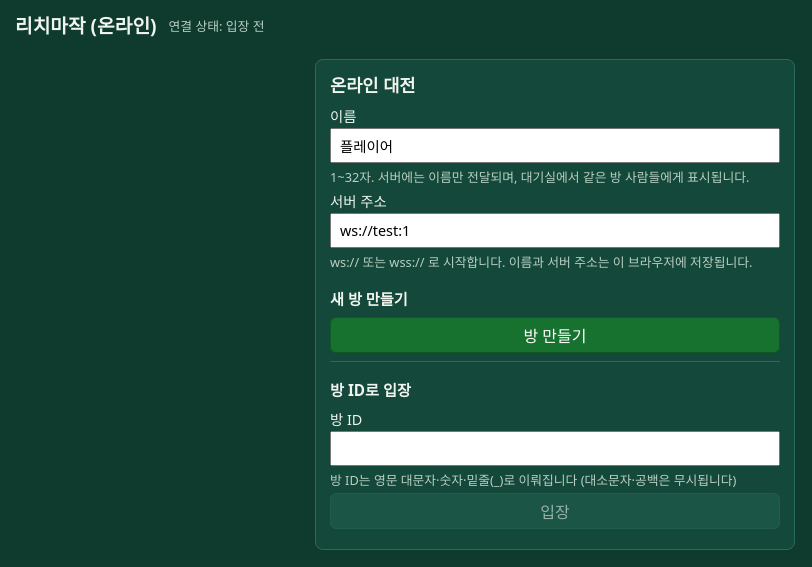
온라인 입장 폼 › 서버 주소를 바꿔 제출하면 새 주소로 새 연결을 만들고 입장 요청을 보낸다
The image size is (812, 567).
Replace the text in the field labelled "서버 주소" with "ws://other:2" at (555, 230), box x1=330 y1=213 x2=780 y2=248
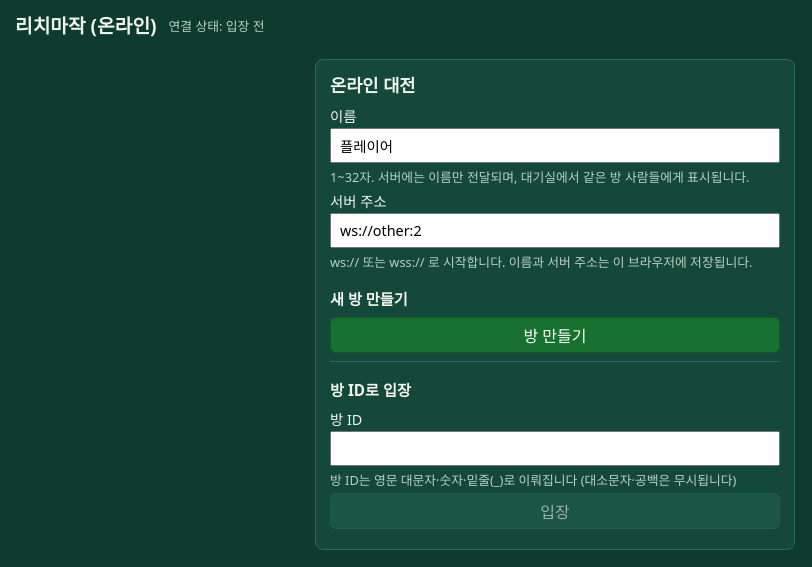
Click the button "방 만들기" at (555, 335), box x1=330 y1=317 x2=780 y2=353
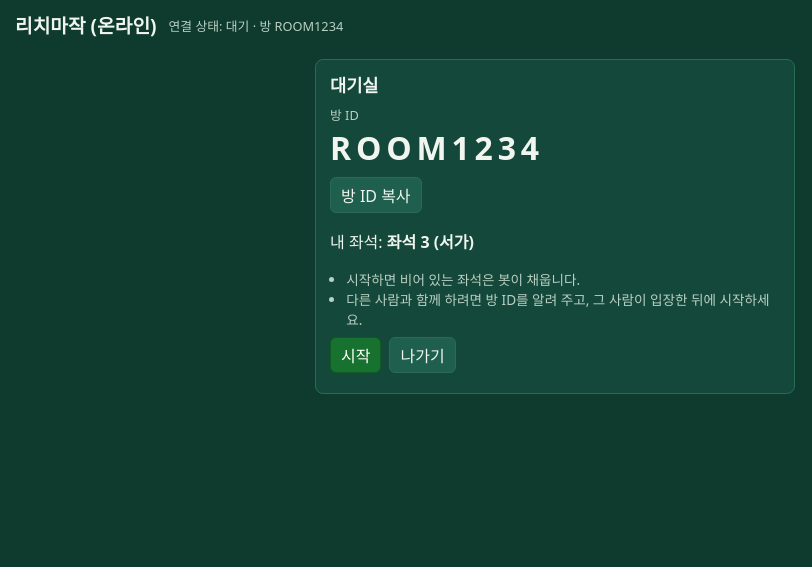
Check: the text with test id "room-id" reads "ROOM1234", box x1=330 y1=126 x2=544 y2=169
